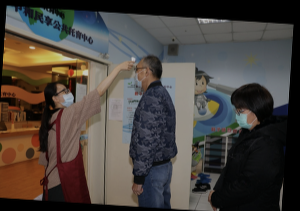with_mask: (232, 108, 254, 130), (57, 87, 75, 109), (132, 63, 145, 87)
